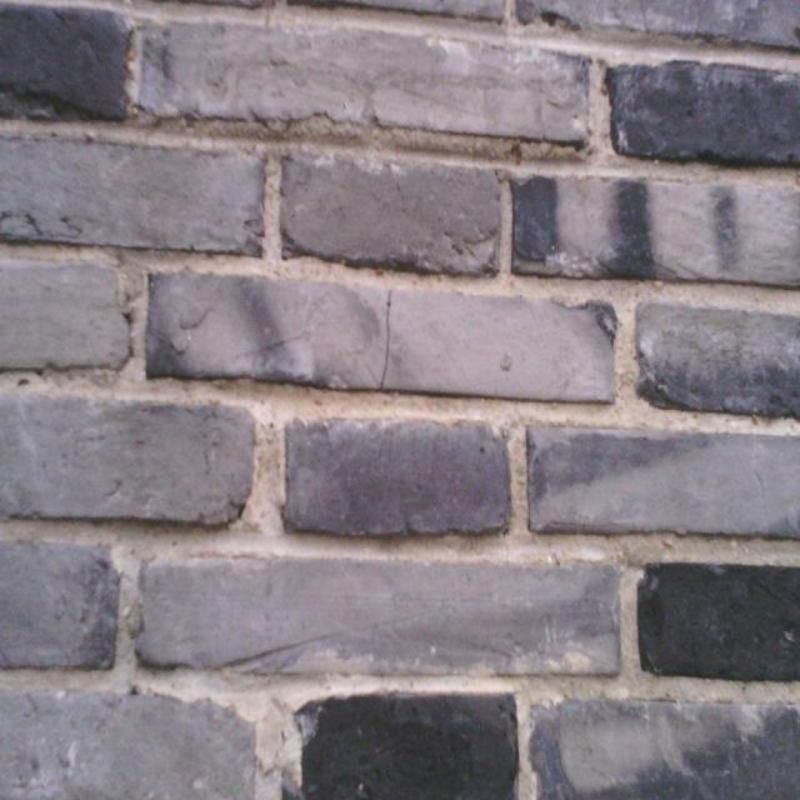pothole: (380, 290, 391, 391)
